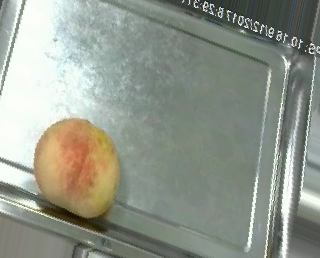Peach: (33, 117, 120, 217)
